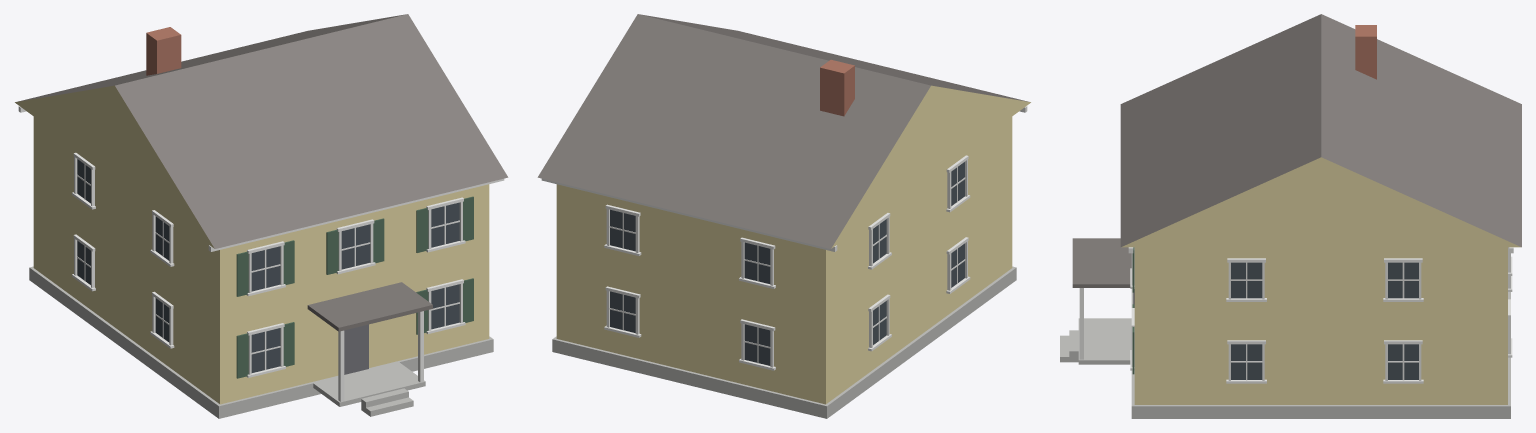
File: SM_House_2F_A.fbx
3 views of the same model, side by side, from view 1: azimuth 30°, elevation 25°; view 2: azimuth 150°, elevation 25°; view 3: azimuth 270°, elevation 25° (orthographic).
Visible parts, largest first — view 1: SM_House_2F_A_LOD0; view 2: SM_House_2F_A_LOD0; view 3: SM_House_2F_A_LOD0.
Boxes of the visible parts, x1,y1,x2,y2 form: SM_House_2F_A_LOD0: [15, 14, 508, 418]; SM_House_2F_A_LOD0: [537, 14, 1030, 418]; SM_House_2F_A_LOD0: [1060, 14, 1521, 418].
Size of what is drawn, in the model's own units: 10.9 by 10.09 by 14.85.
